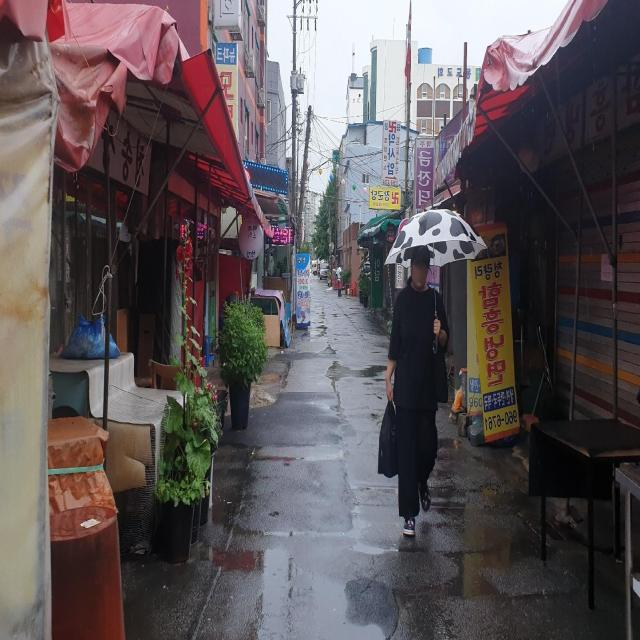person ahead at: (374, 200, 488, 551)
plant ahead at: (223, 278, 264, 431)
